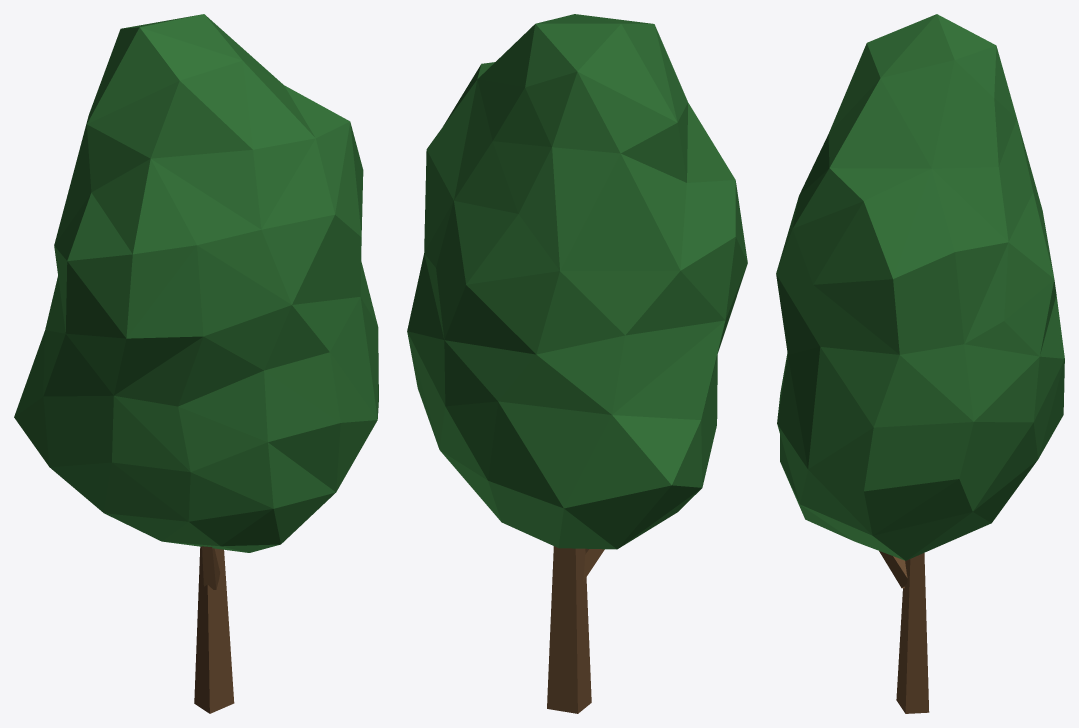
File: tree-beech.glb
3 renders of one model, left to right at view 1: azimuth 30°, elevation 25°; view 2: azimuth 150°, elevation 25°; view 3: azimuth 270°, elevation 25°, orthographic. The views are drawn at different scales.
Parts seen in each view (by area): view 1: tree-beech; view 2: tree-beech; view 3: tree-beech.
Part boxes in pixels (box(x1,y1,x2,y2)): tree-beech: box(14, 14, 378, 713); tree-beech: box(407, 14, 747, 713); tree-beech: box(776, 14, 1064, 713).
Size of the model in its own units: 3.6 by 7.91 by 3.12.
